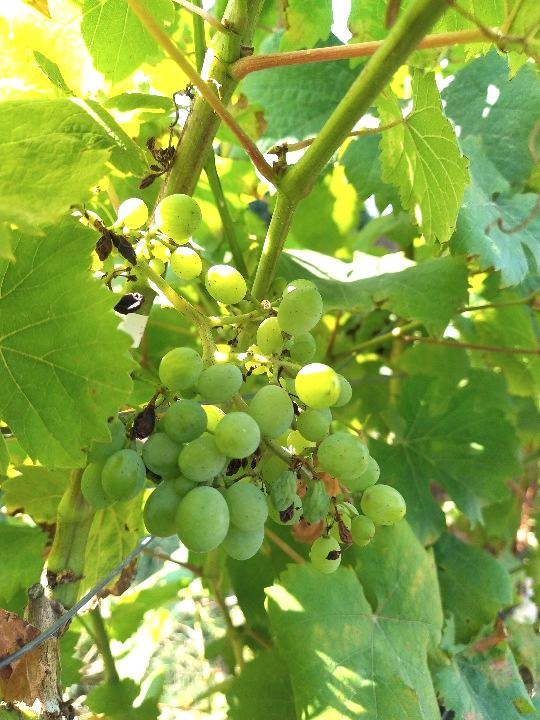grape: (72, 191, 410, 579)
